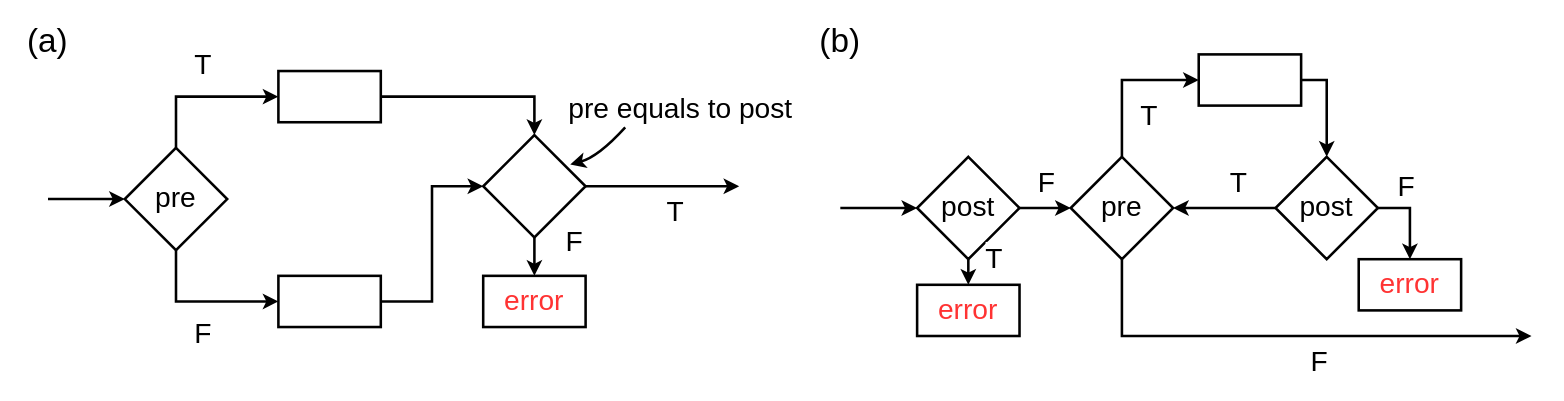
Image size: 1564x401. Some labels were removed from this diagram. Here are the shapes that lost their labels. From the top down, the box of each, then its label:
(276, 69, 381, 123): stmts1
(1197, 52, 1302, 106): stmts
(276, 274, 381, 328): stmts2
